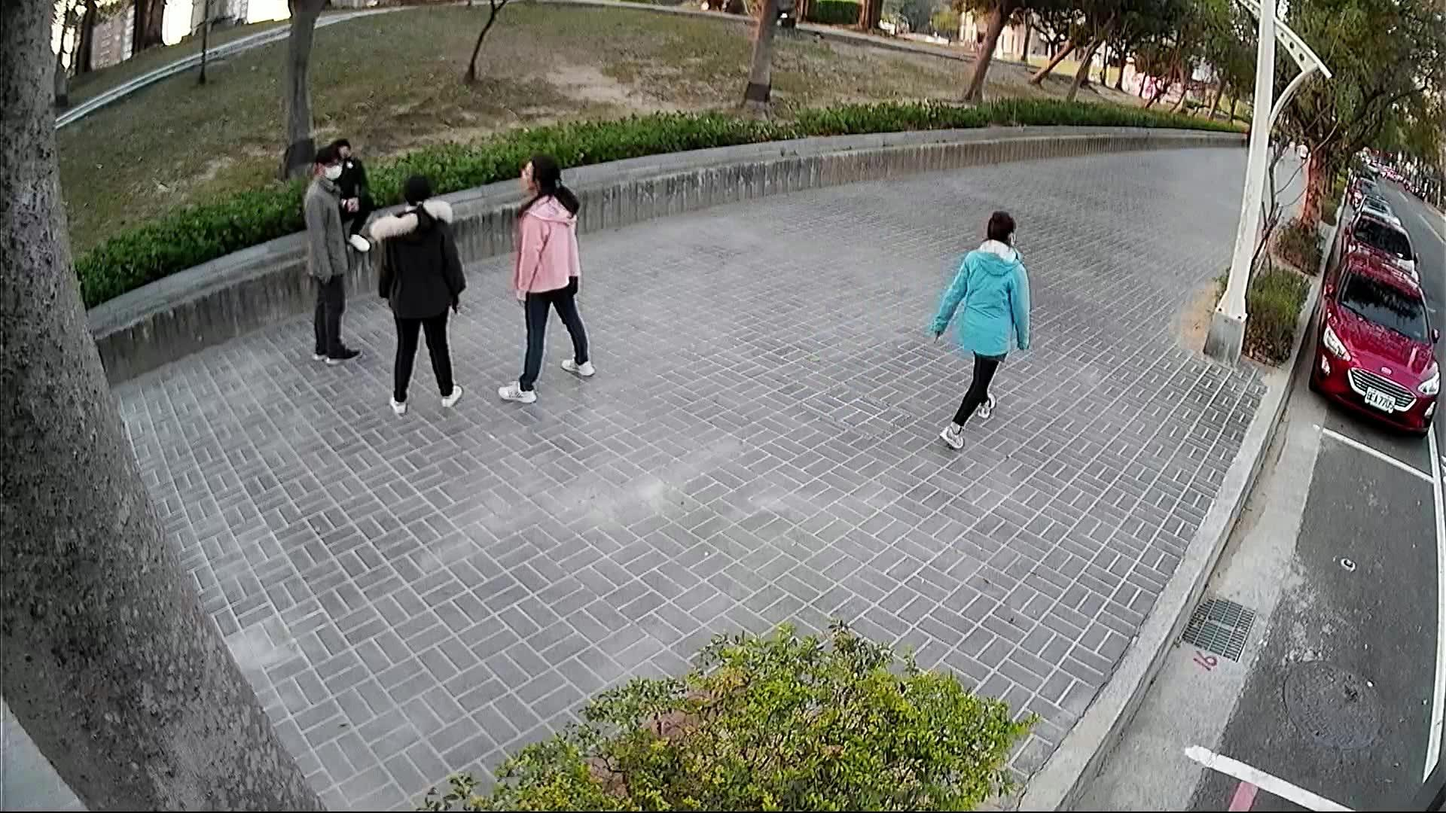person: (488, 149, 600, 410), (925, 200, 1033, 455), (365, 169, 471, 419), (294, 138, 362, 368), (325, 133, 375, 251), (1292, 134, 1310, 171)
